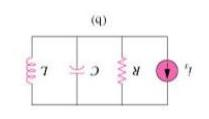inductor: (23, 48, 38, 84)
